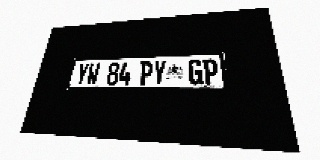4: (118, 62, 132, 85)
8: (106, 62, 120, 85)
G: (188, 59, 203, 85)
P: (203, 58, 219, 85), (139, 61, 153, 85)
W: (86, 63, 100, 85)
Y: (74, 63, 90, 85), (152, 60, 166, 85)
